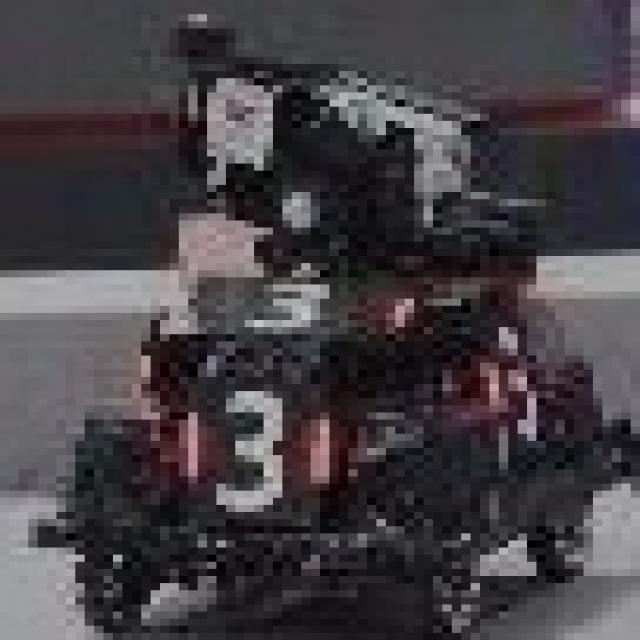R3: (170, 384, 330, 505), (179, 270, 414, 334)
